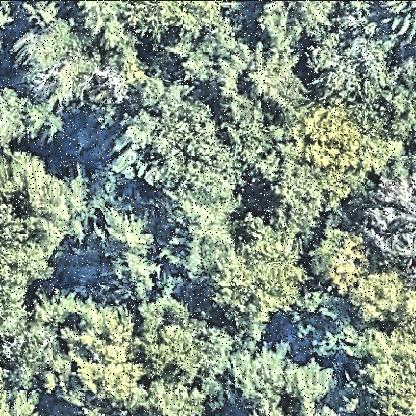tree-top: (110, 72, 236, 218), (292, 106, 404, 198), (210, 220, 309, 323), (302, 19, 396, 109), (12, 23, 102, 115), (65, 308, 147, 405), (87, 208, 165, 307), (2, 140, 94, 223), (226, 340, 332, 407), (1, 202, 67, 301), (139, 285, 203, 385), (349, 180, 416, 267), (334, 345, 416, 416), (270, 163, 352, 232), (117, 3, 245, 43), (308, 222, 368, 300), (241, 47, 309, 111), (249, 2, 337, 50), (223, 124, 289, 182), (347, 265, 404, 331), (2, 321, 58, 379), (146, 377, 226, 416), (23, 283, 79, 334), (384, 61, 416, 149), (1, 86, 37, 146), (202, 329, 236, 385)
